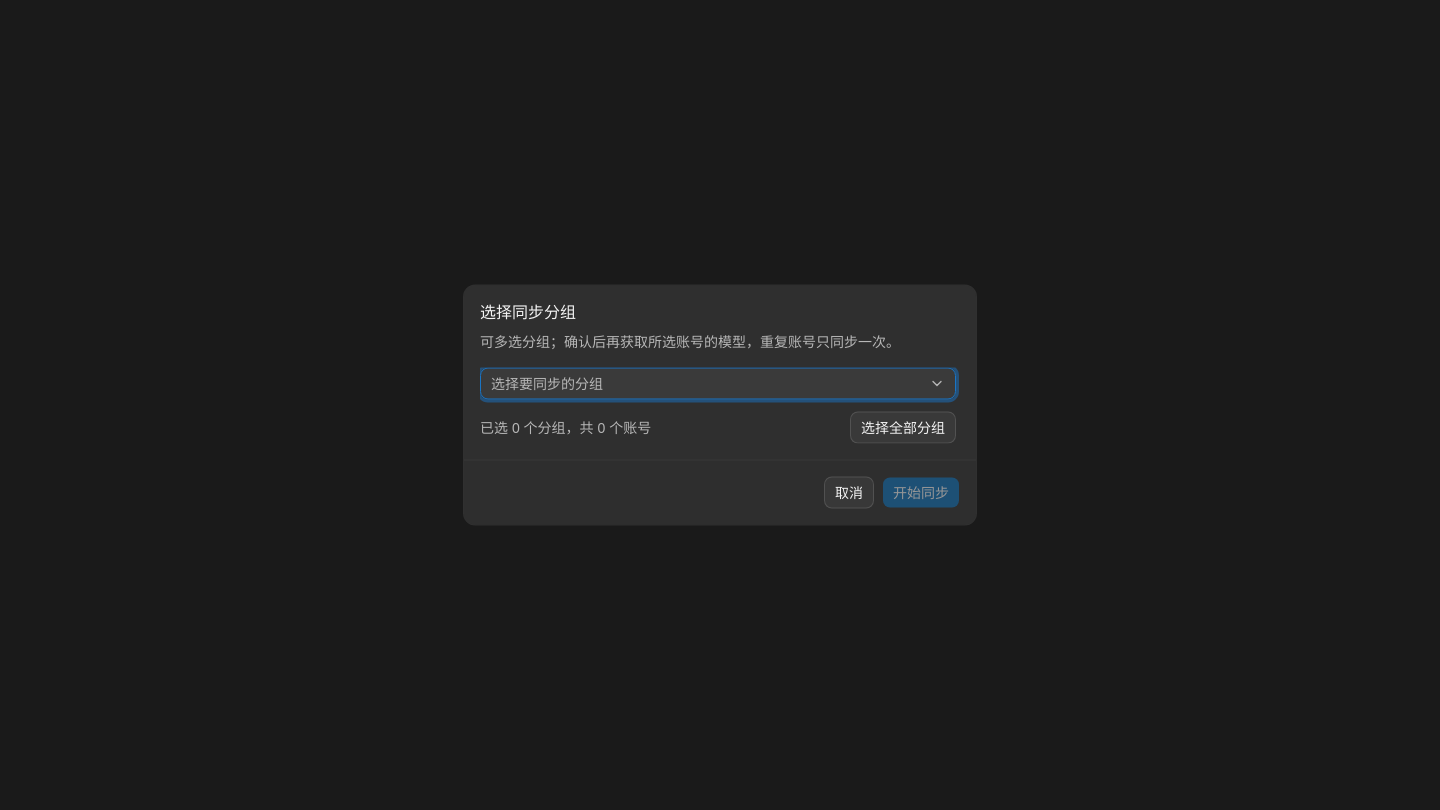
it: 账号没有分组时可显式选择未分组后开始同步
The width and height of the screenshot is (1440, 810).
Click the dropdown named "同步分组": (718, 384) [480,368,956,400]
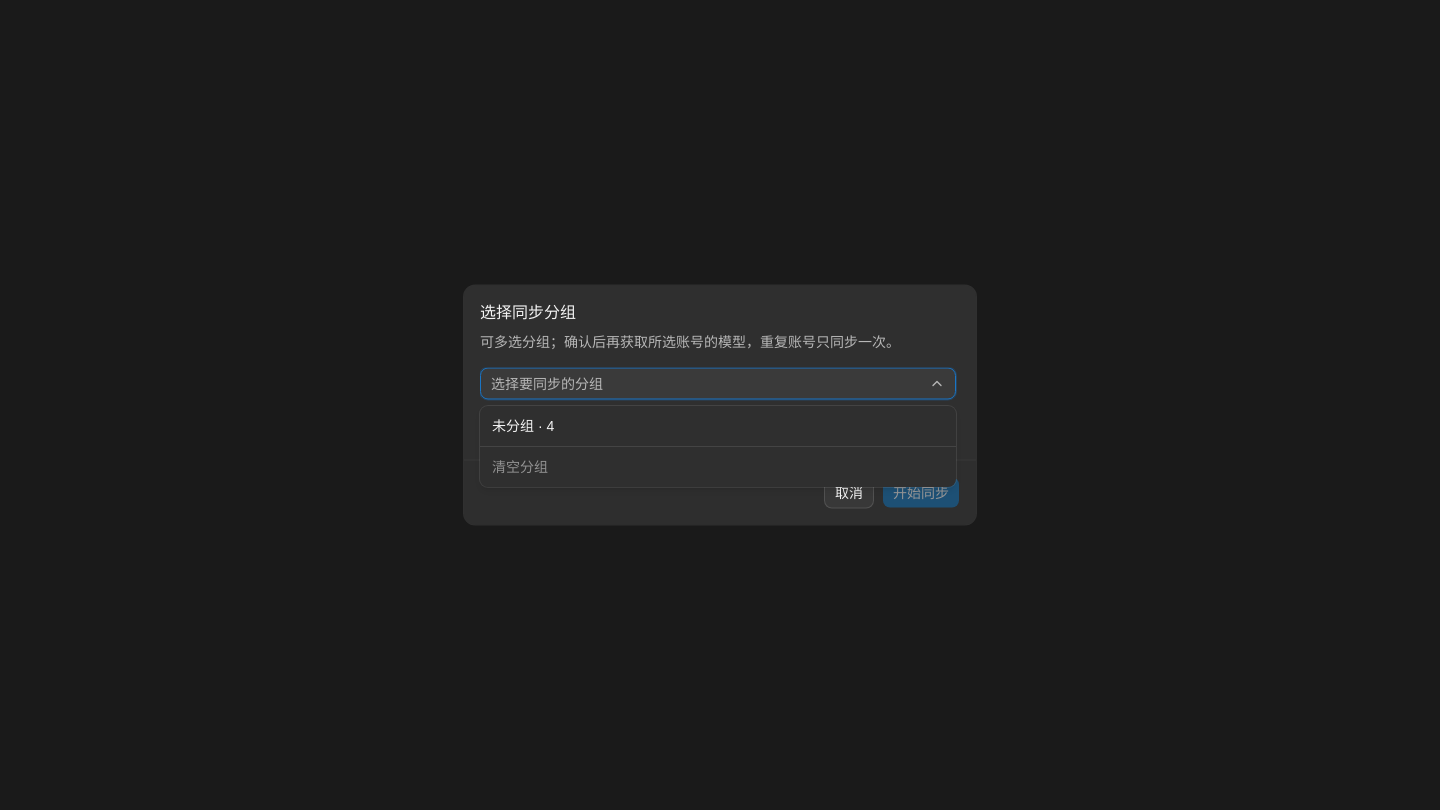
Click the option "未分组 · 4": (523, 426) [492,418,554,434]
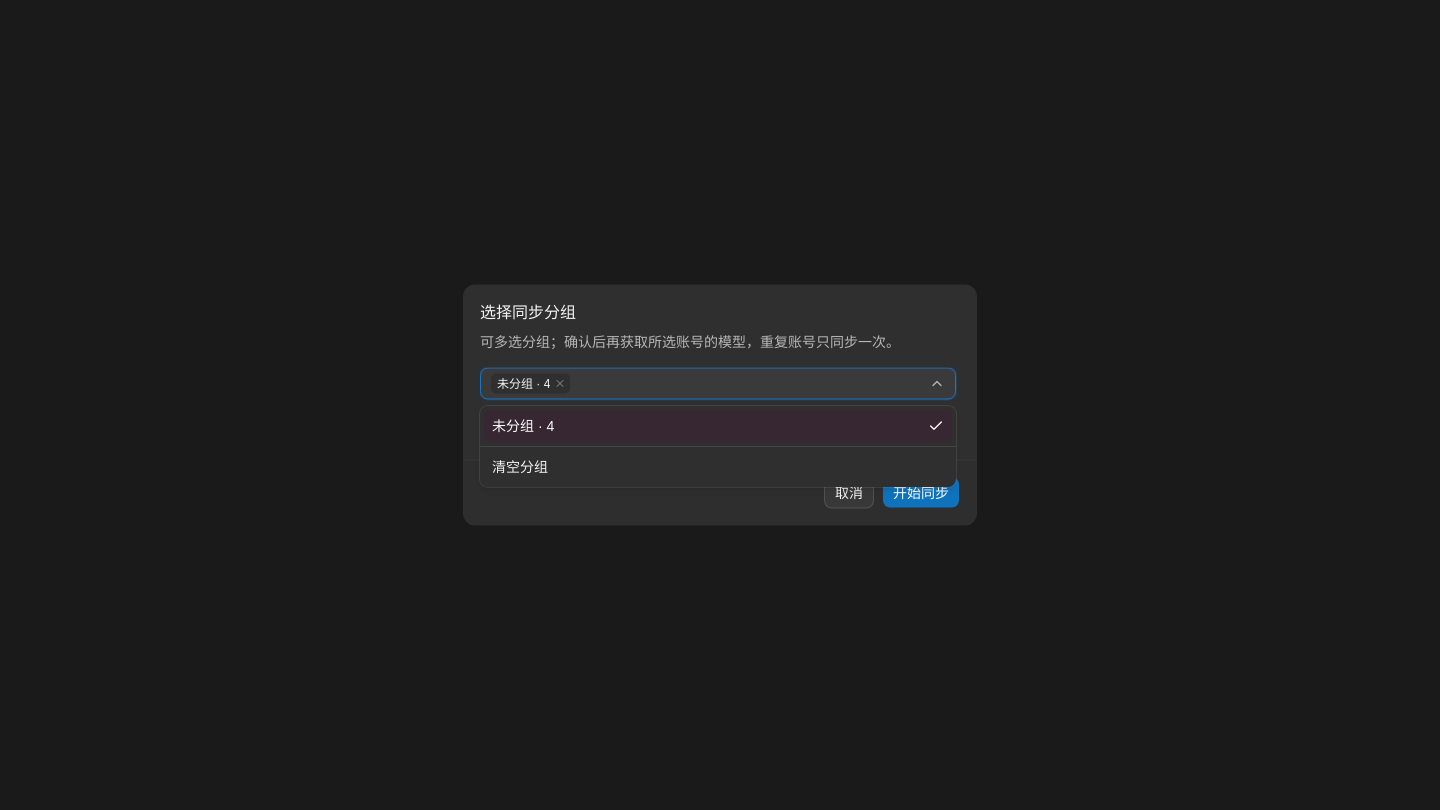
Press Escape
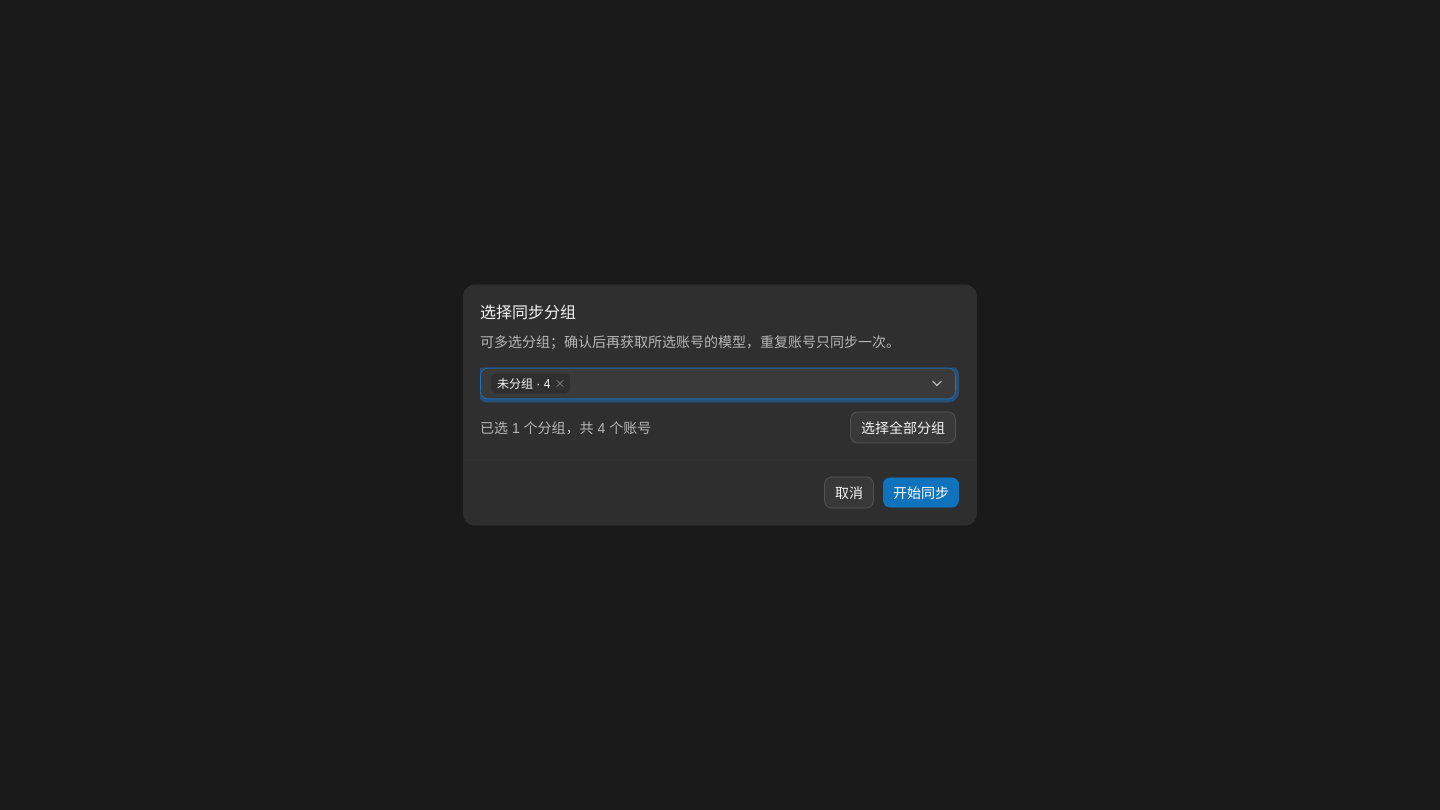
Click the button "开始同步": (921, 492) [882,476,960,508]
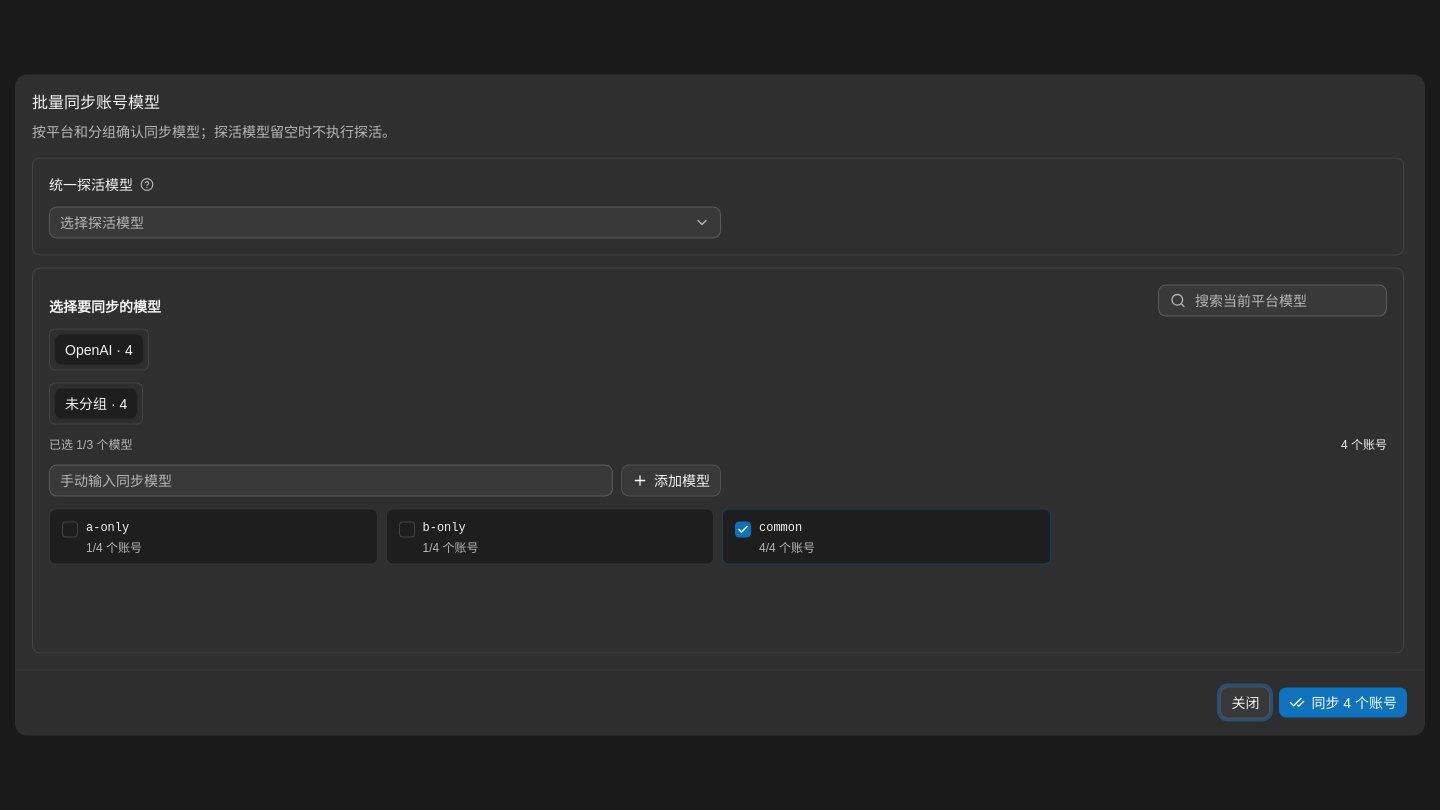
Expected: the checkbox named "同步模型 common" is shown, [735,522,751,538]
